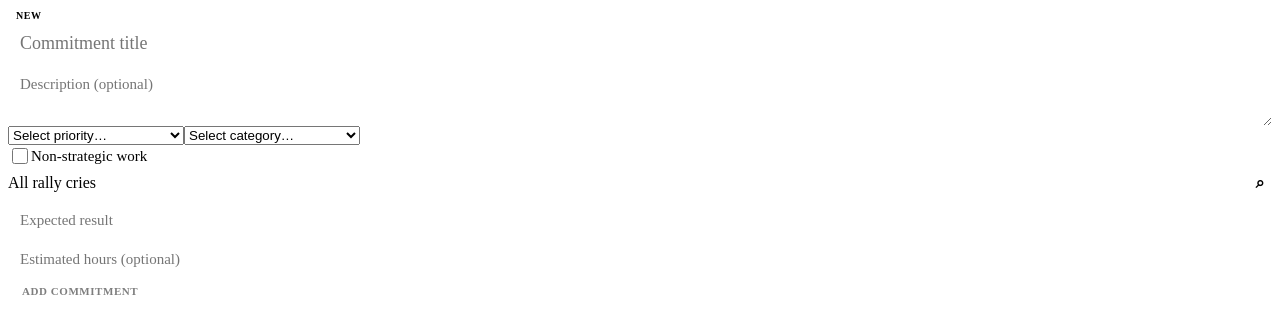
Scenario: CommitEditor › toggles non-strategic mode
The image size is (1280, 316).
Click the checkbox with test id "non-strategic-toggle" at (20, 156), box [12,148,28,164]
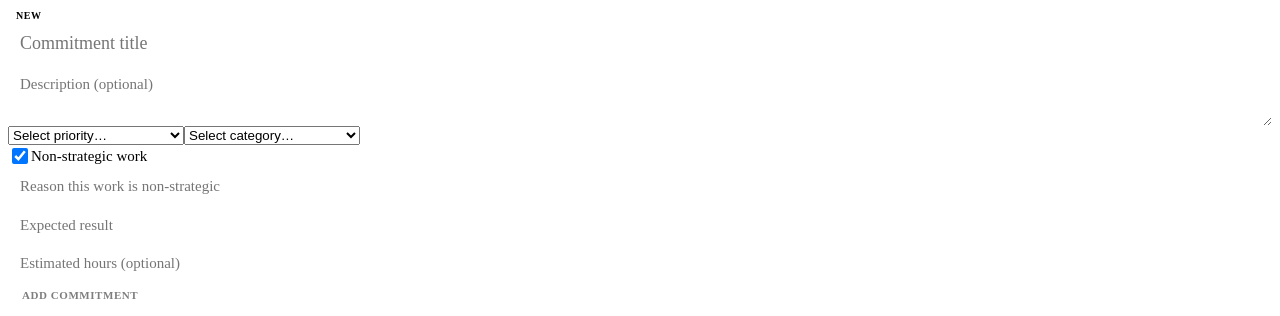
Check: the field with test id "non-strategic-reason" is shown, box [8,167,1272,206]
Check: the element with test id "rcdo-picker" is gone
